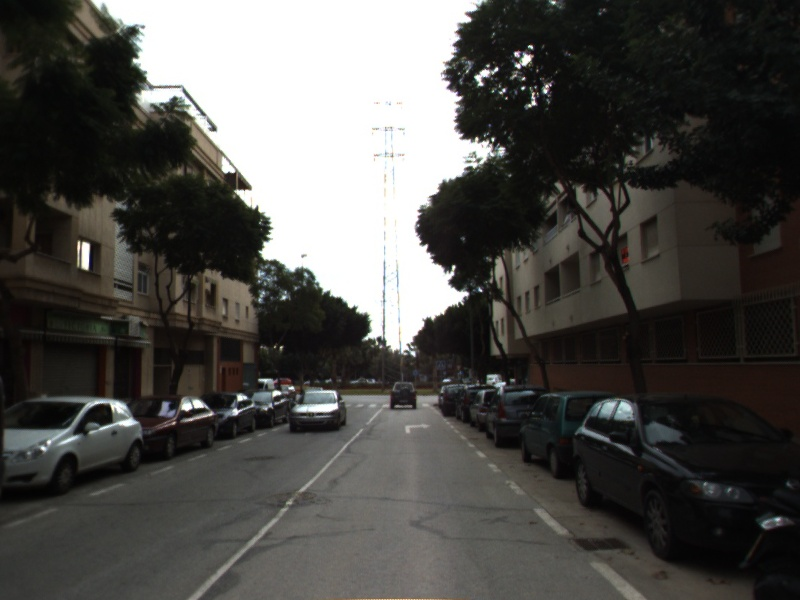RIGHT: (402, 421, 434, 435)
